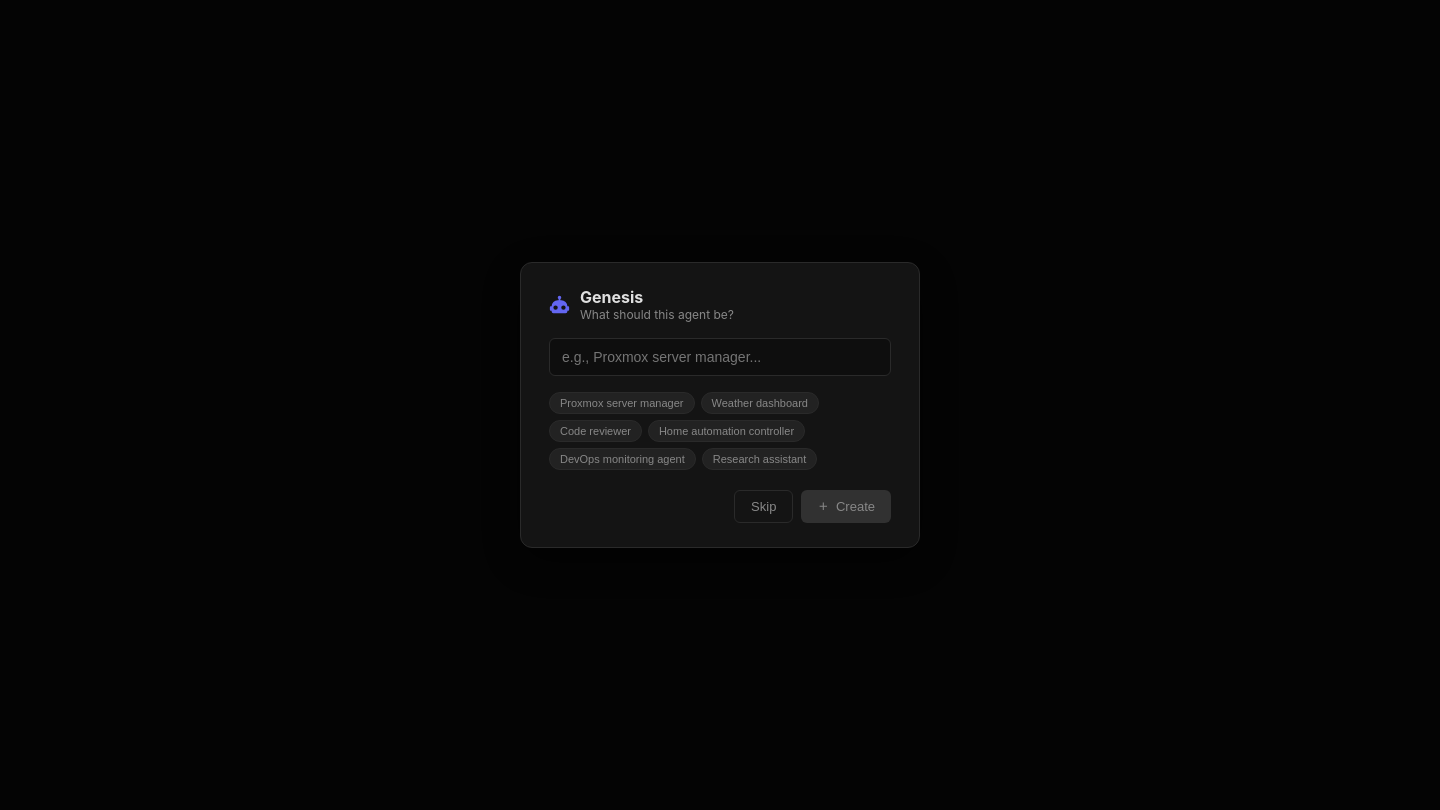
GenesisModal › fills input when example chip clicked
Click the button "Weather dashboard". click: (760, 403)
box: x1=700 y1=392 x2=819 y2=414
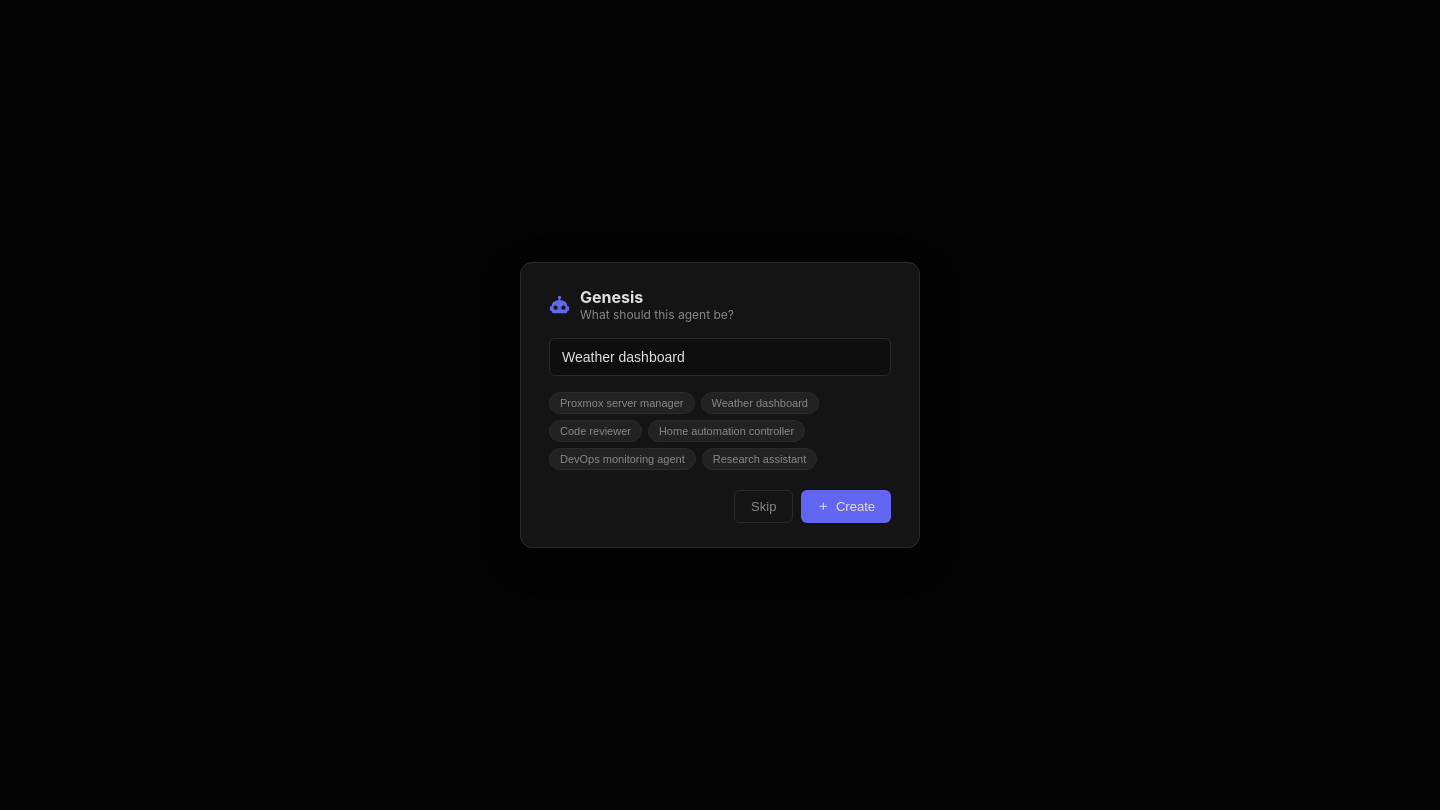
Expected: the field with placeholder "e.g., Proxmox server manager..." holds "Weather dashboard", x1=549 y1=338 x2=891 y2=376
